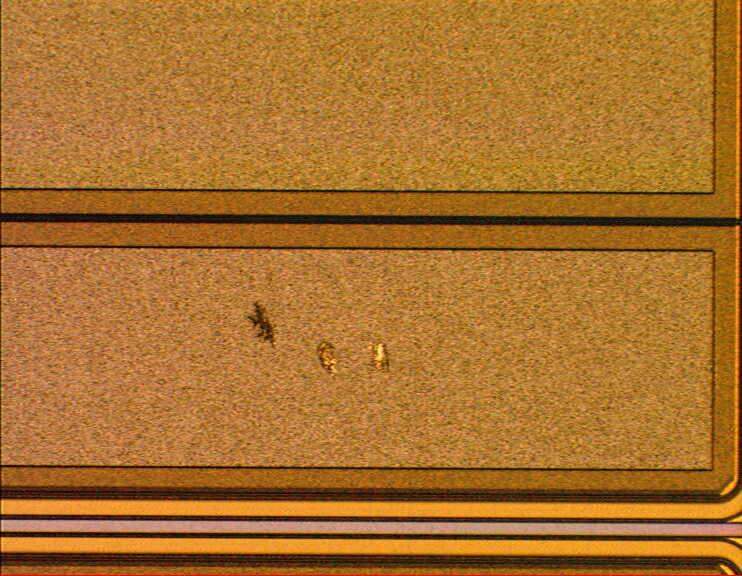SCRATCH: (230, 272, 401, 396)
